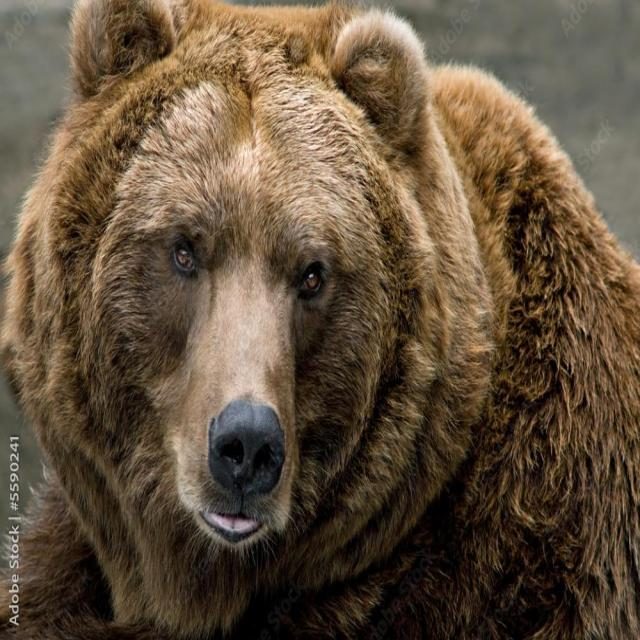Bear: (0, 0, 640, 640)
